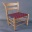chair: (1, 1, 32, 30)
